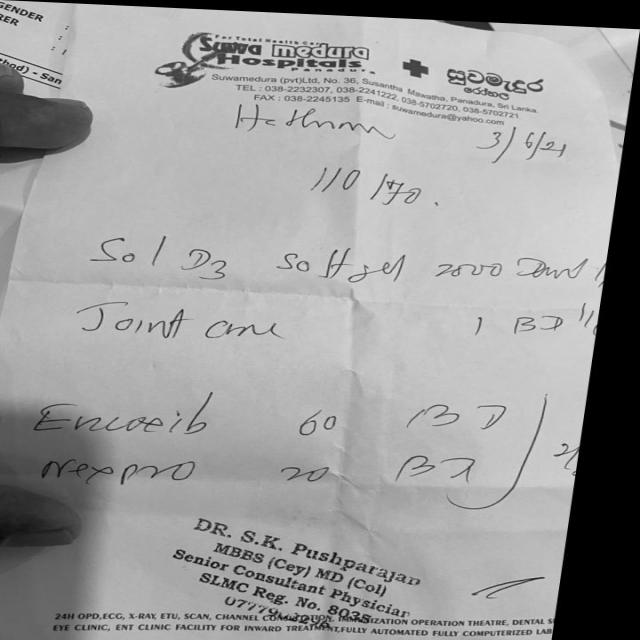Prescription: (24, 429, 516, 505), (50, 380, 533, 449)
